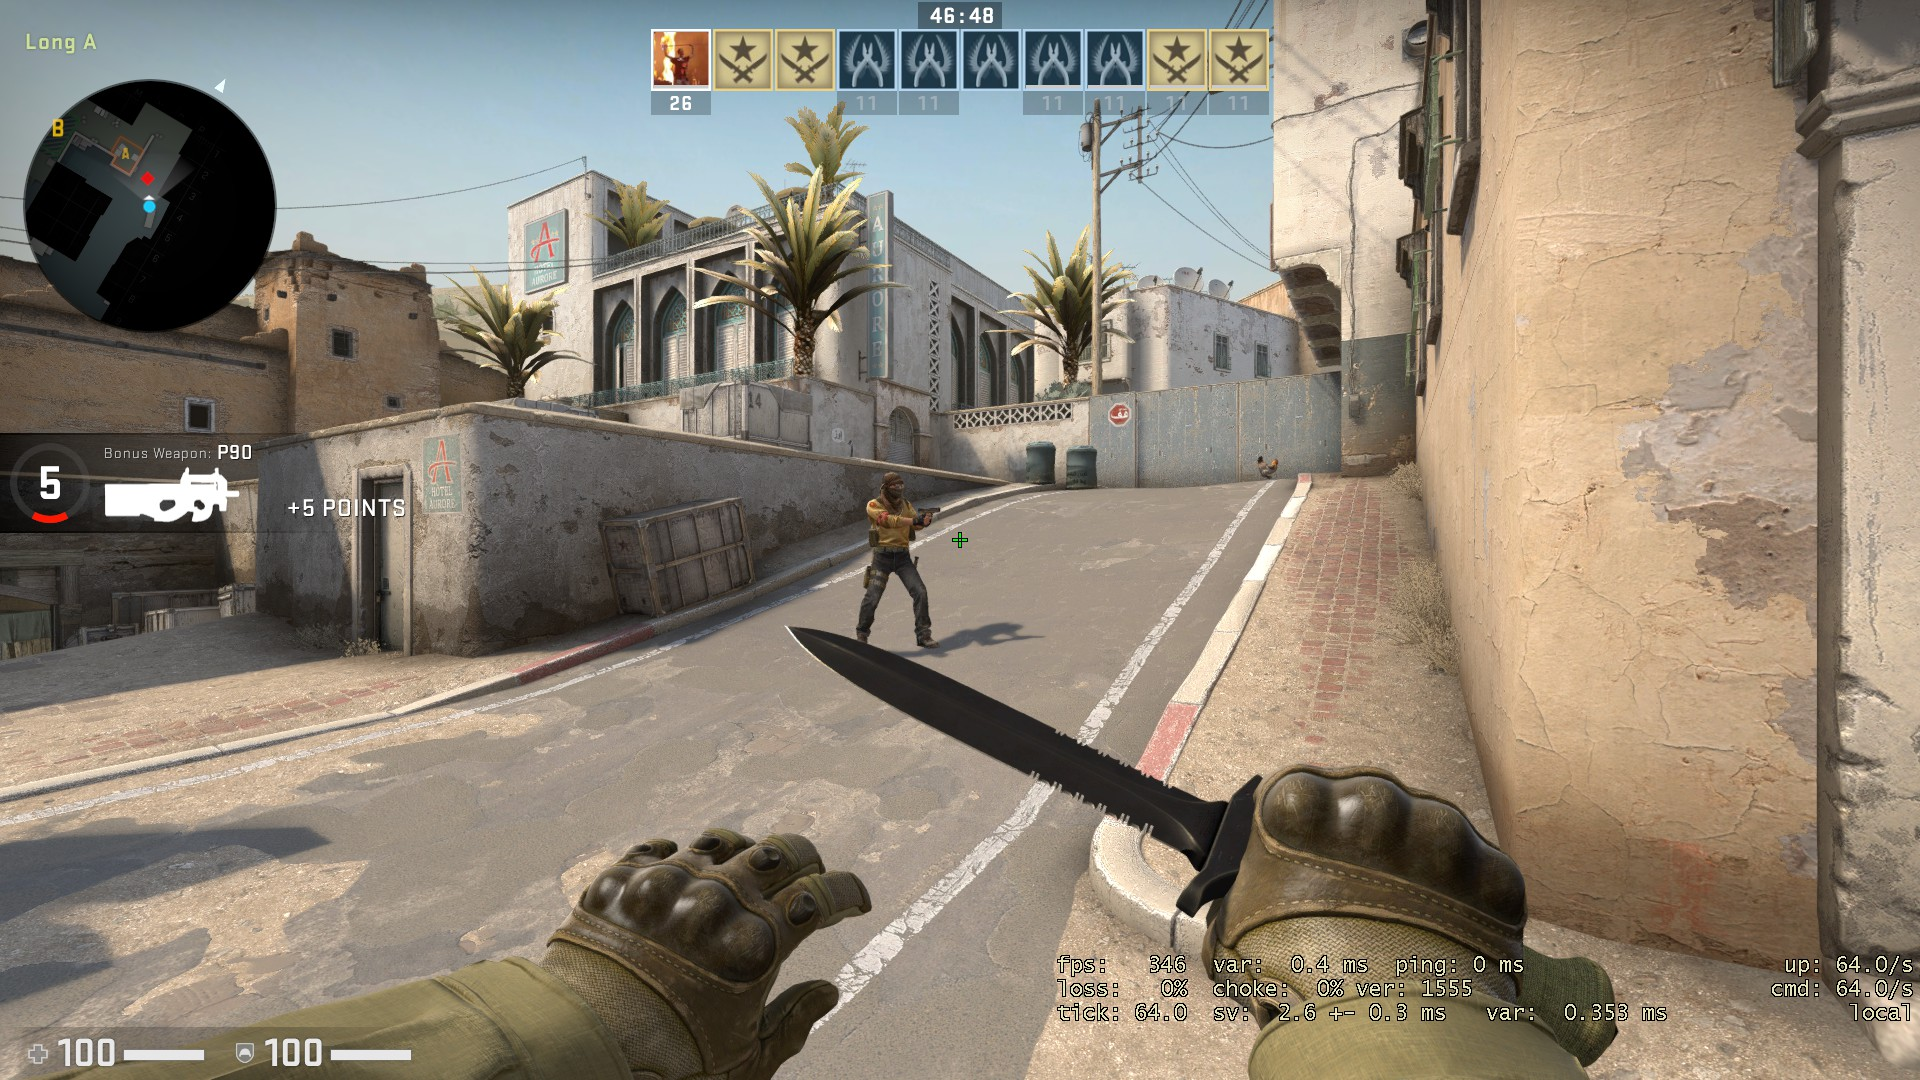player: (852, 467, 942, 655)
